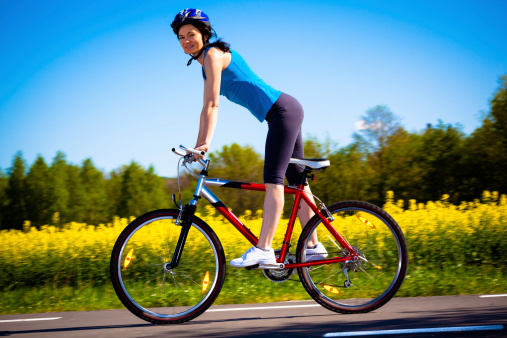with_helmet: (168, 9, 218, 32)
